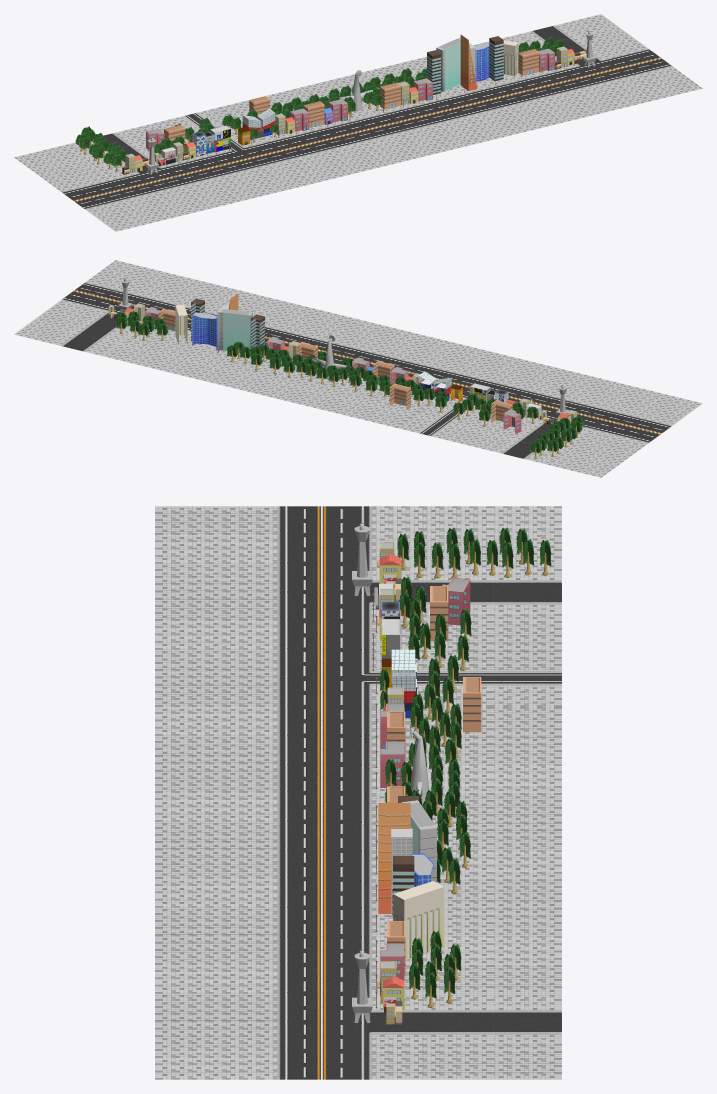
File: map3.fbx
3 views of the same model, one above another, from view 1: azimuth 30°, elevation 25°; view 2: azimuth 150°, elevation 25°; view 3: azimuth 270°, elevation 25° (orthographic). The views are drawn at different scales.
Parts seen in each view (by area): view 1: tex3, pCube37, pCube39, pCube80, pCylinder7, pCube46, pCube36, pCube86, pCube85, pCube17, pCube66, pCube24 (+2 smaller); view 2: tex3, pCube37, pCylinder7, pCube101, pCube36, pCube46; view 3: tex3, pCube46, pCube39, pCube37, pCube101, pCube100.
Part boxes in pixels (bbox=[...]): tex3: bbox=[14, 14, 702, 231]; pCube37: bbox=[436, 37, 460, 91]; pCube39: bbox=[460, 34, 477, 90]; pCube80: bbox=[489, 36, 503, 80]; pCylinder7: bbox=[474, 42, 489, 81]; pCube46: bbox=[503, 40, 518, 75]; pCube36: bbox=[427, 50, 440, 94]; pCube86: bbox=[518, 49, 539, 75]; pCube85: bbox=[380, 82, 401, 109]; pCube17: bbox=[210, 125, 230, 152]; pCube66: bbox=[303, 101, 324, 127]; pCube24: bbox=[289, 108, 309, 131]; tex3: bbox=[14, 260, 702, 477]; pCube37: bbox=[217, 308, 252, 353]; pCylinder7: bbox=[192, 312, 217, 349]; pCube101: bbox=[389, 383, 410, 410]; pCube36: bbox=[251, 314, 264, 357]; pCube46: bbox=[175, 304, 187, 345]; tex3: bbox=[155, 506, 561, 1079]; pCube46: bbox=[393, 881, 444, 959]; pCube39: bbox=[378, 803, 410, 913]; pCube37: bbox=[401, 800, 436, 882]; pCube101: bbox=[463, 677, 481, 732]; pCube100: bbox=[442, 577, 470, 625].
Bounding box in the file's own units: 1119 × 93.47 × 336.
